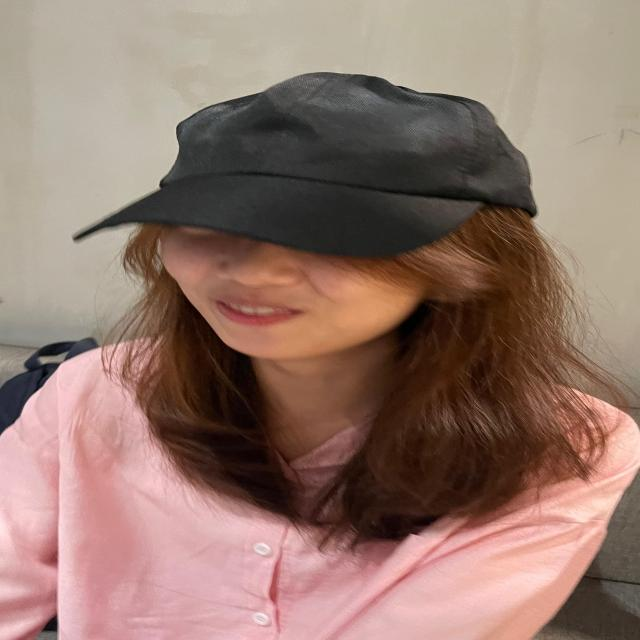3_gorra: (66, 62, 538, 265)
